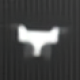plane: (10, 21, 68, 61)
